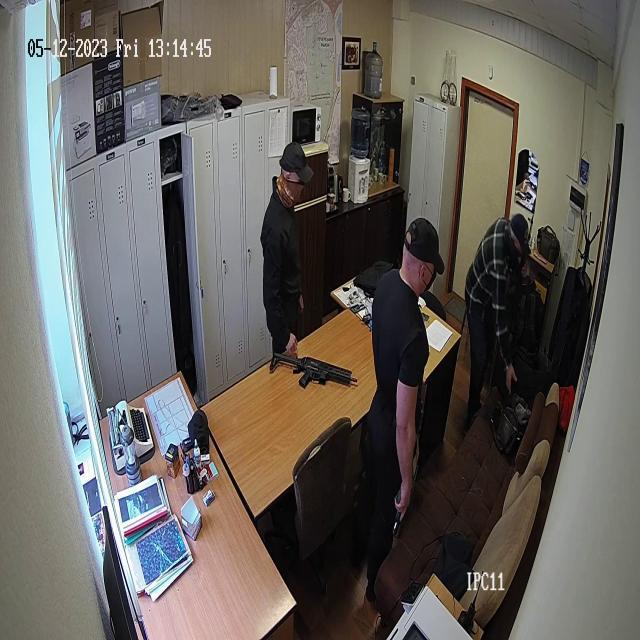pistol: (270, 352, 358, 391), (520, 214, 540, 298), (392, 486, 408, 534)
